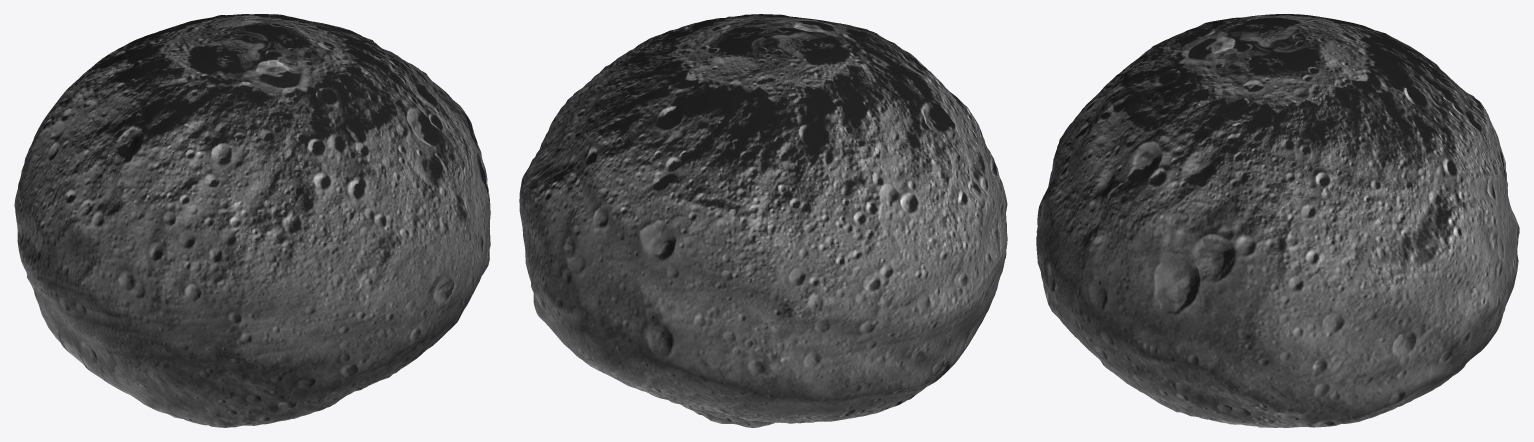
File: nasa-vesta.glb
The picture shows the model from 3 angles, left to right: view 1: azimuth 30°, elevation 25°; view 2: azimuth 150°, elevation 25°; view 3: azimuth 270°, elevation 25°; orthographic projection. The views are drawn at different scales.
Visible parts, largest first — view 1: Vesta; view 2: Vesta; view 3: Vesta.
Boxes of the visible parts, box(x1,y1,x2,y2) form: Vesta: box(14, 14, 490, 427); Vesta: box(519, 14, 1007, 427); Vesta: box(1036, 14, 1519, 427).
Size of the model in its own units: 5733 by 4629 by 5562.
Materials: 1 (1 with a texture image).
